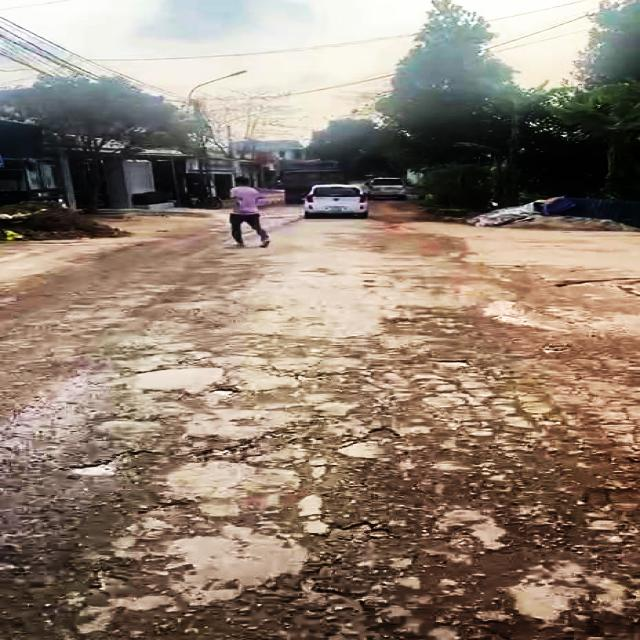pothole: (299, 513, 422, 581), (297, 583, 408, 640), (63, 453, 127, 481), (186, 442, 254, 463)
